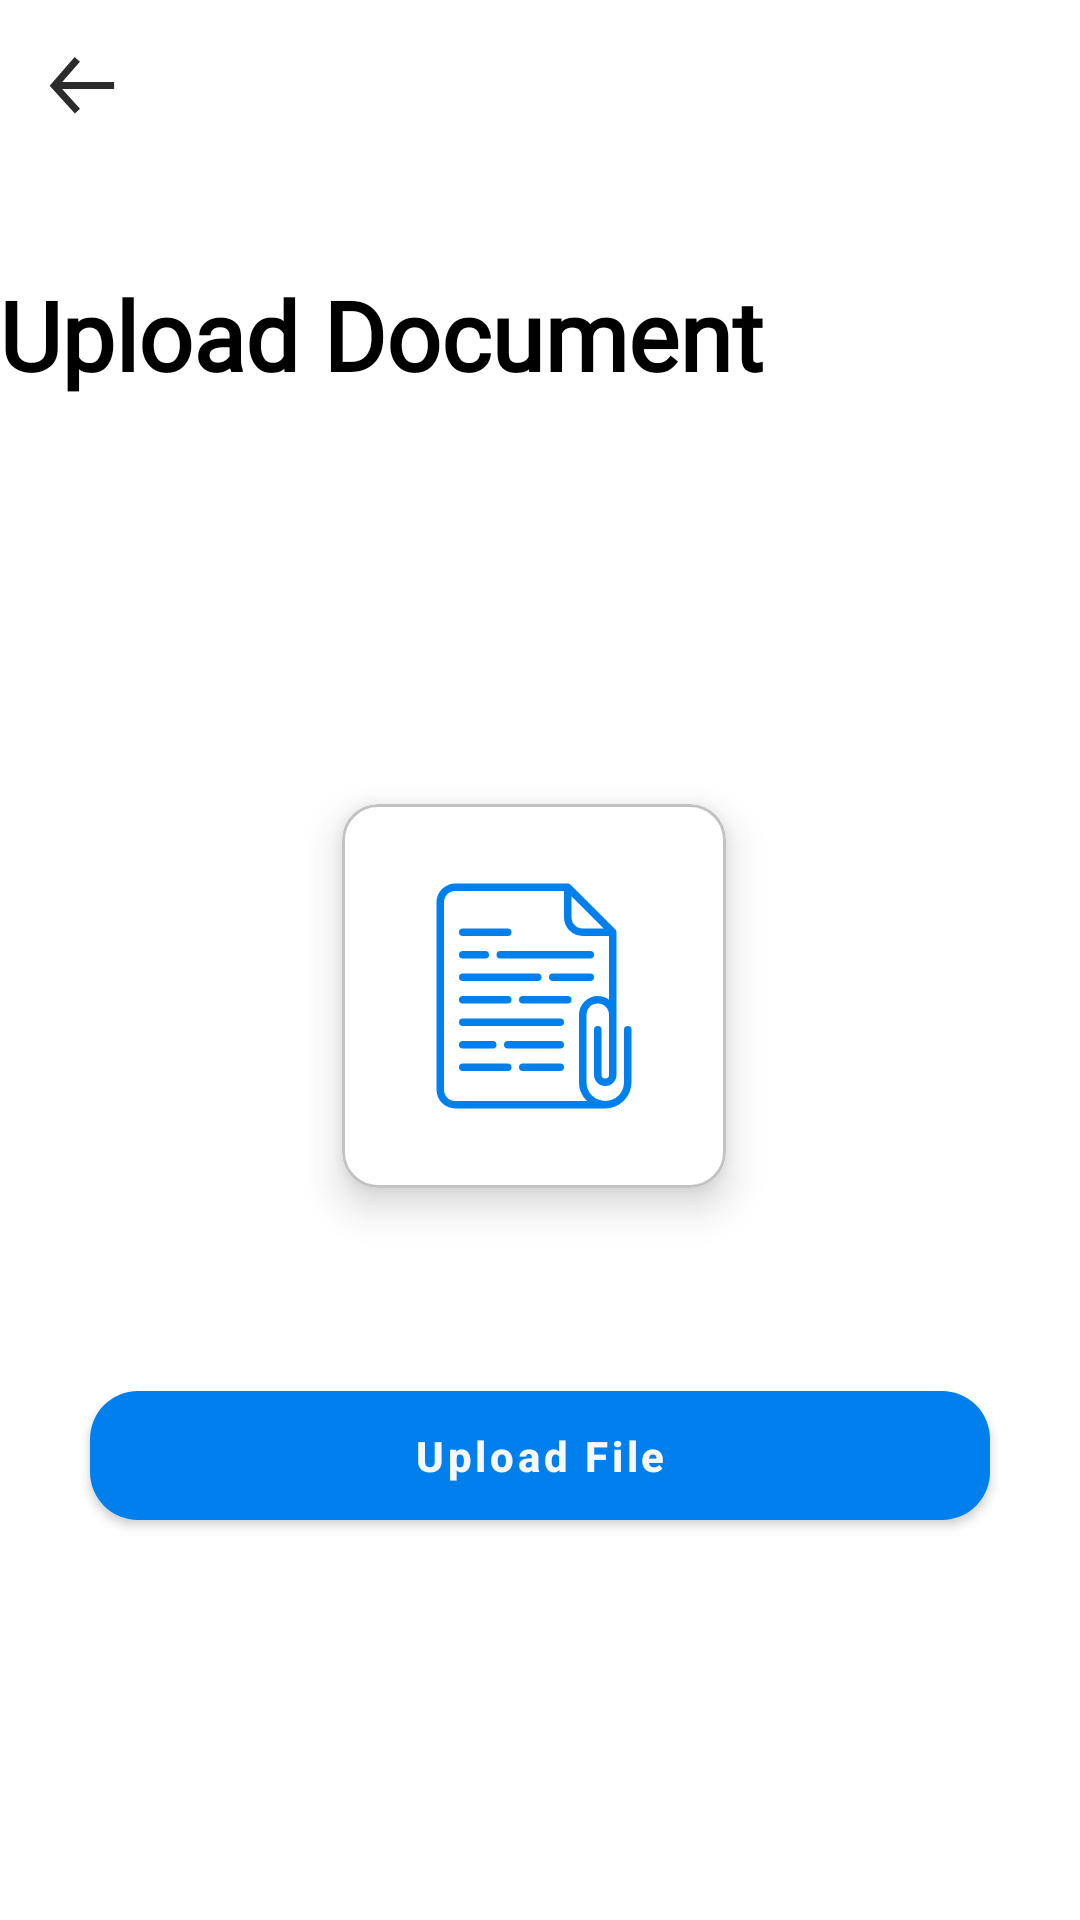

Locate icon controls on the screen. Image size 1080px x 1920px, boxes as [x1=x1, y1=y1, x2=x2, y2=y2].
file attach: [x1=436, y1=883, x2=632, y2=1109]
